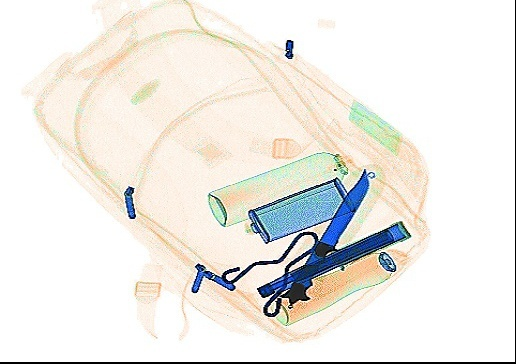knife: (277, 158, 385, 308)
pressure: (206, 148, 353, 227), (269, 245, 410, 326)
slingshot: (219, 228, 318, 316)
zippooil: (244, 174, 356, 244)
